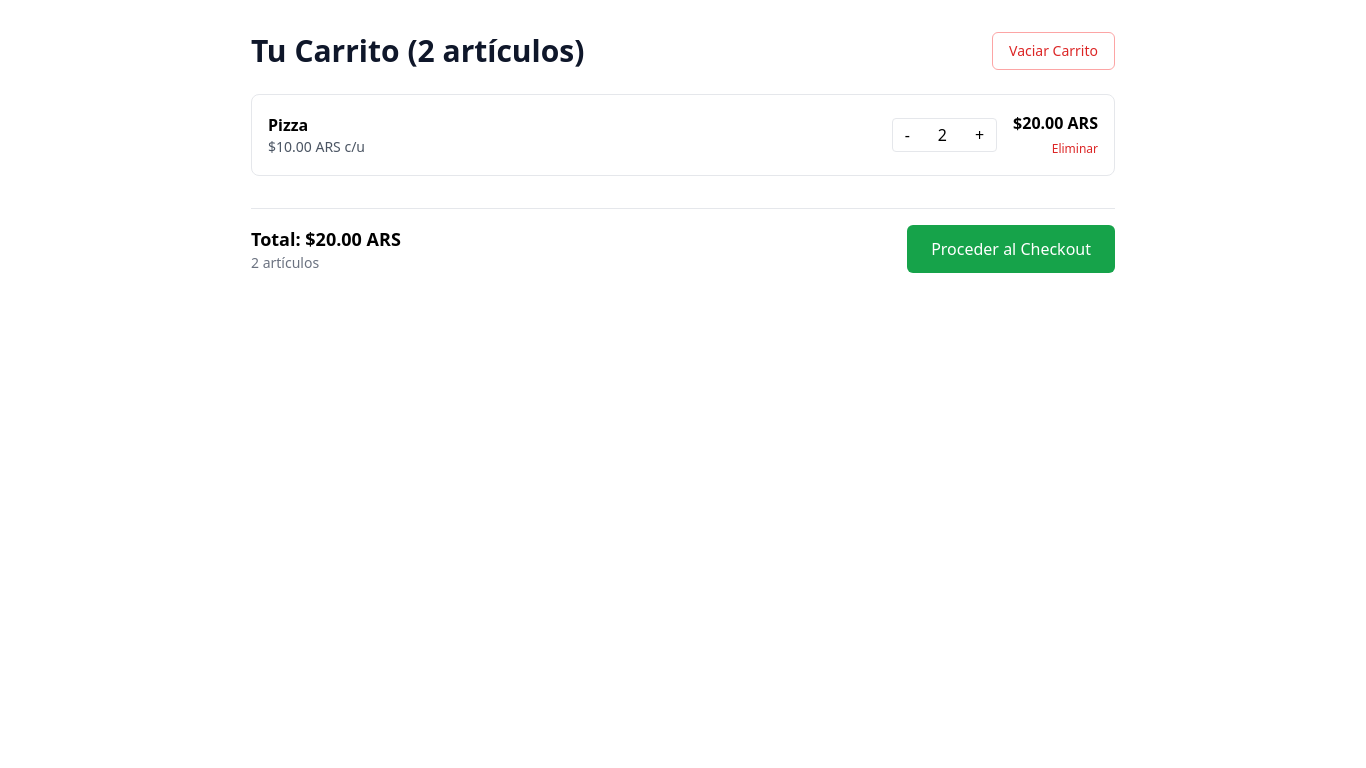
Test: CartPage › removes all items when confirming clear
Click the button "Vaciar Carrito" at (1054, 51), box [992,32,1115,70]
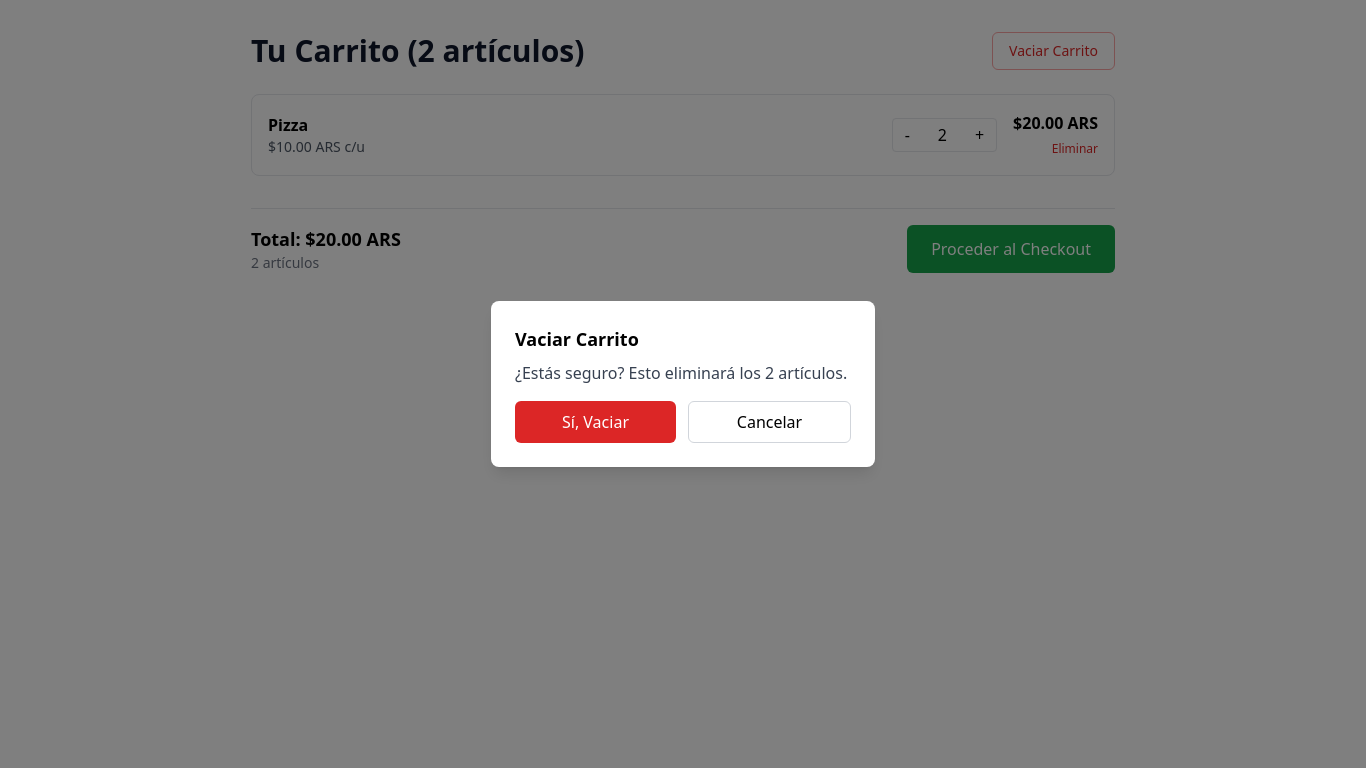
Click the button "Sí, Vaciar" at (596, 422), box [515,401,676,443]
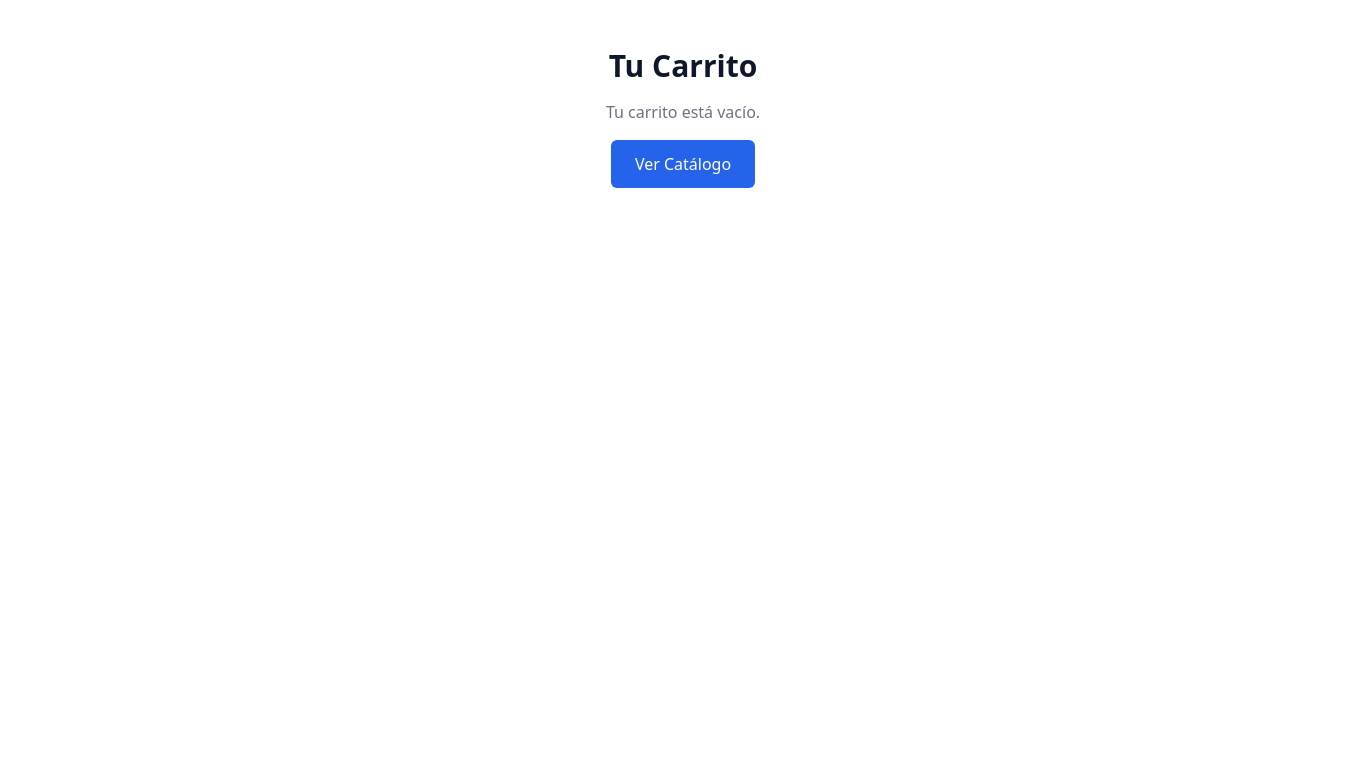
Check: the text "Tu carrito está vacío." is shown, box [606,101,760,123]
